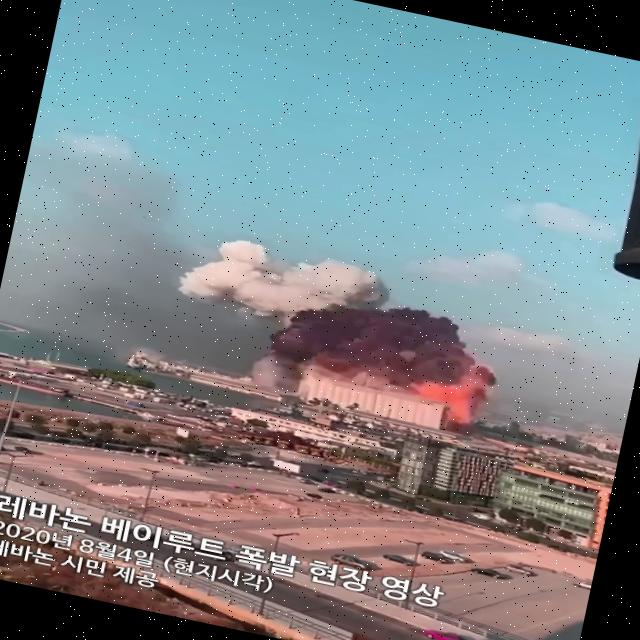explosion: (155, 202, 550, 470)
